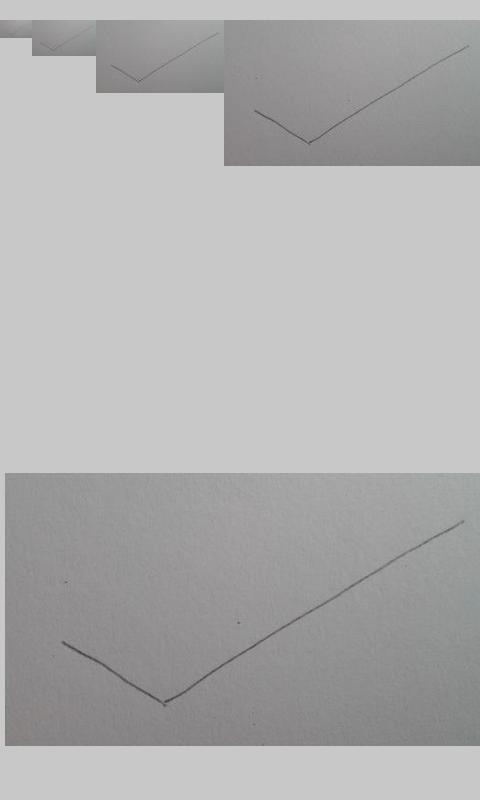check_box: (62, 520, 465, 707), (253, 44, 470, 145), (111, 32, 219, 84), (40, 26, 91, 51), (7, 23, 25, 36)
